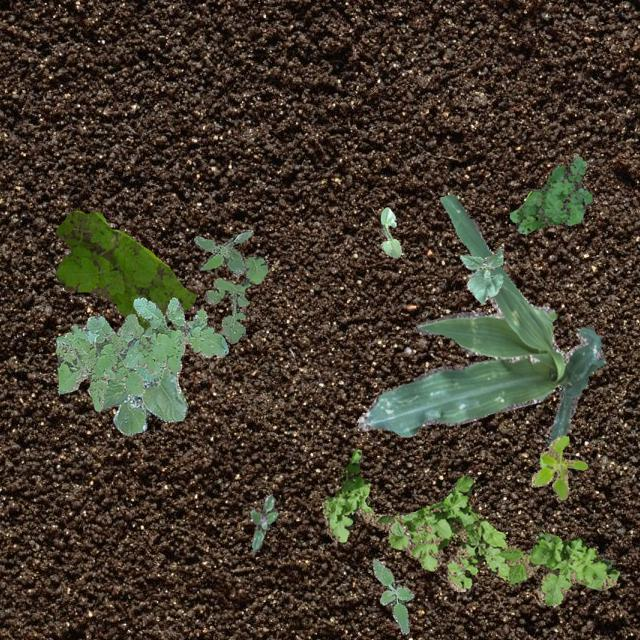crop: (356, 194, 604, 451), (100, 364, 186, 434), (458, 246, 502, 304), (380, 206, 400, 256)
weed: (320, 448, 618, 604), (54, 296, 228, 410), (54, 210, 194, 330), (508, 152, 592, 232), (205, 255, 268, 342), (530, 434, 586, 498), (372, 558, 412, 634), (192, 228, 252, 276), (250, 492, 278, 550)
